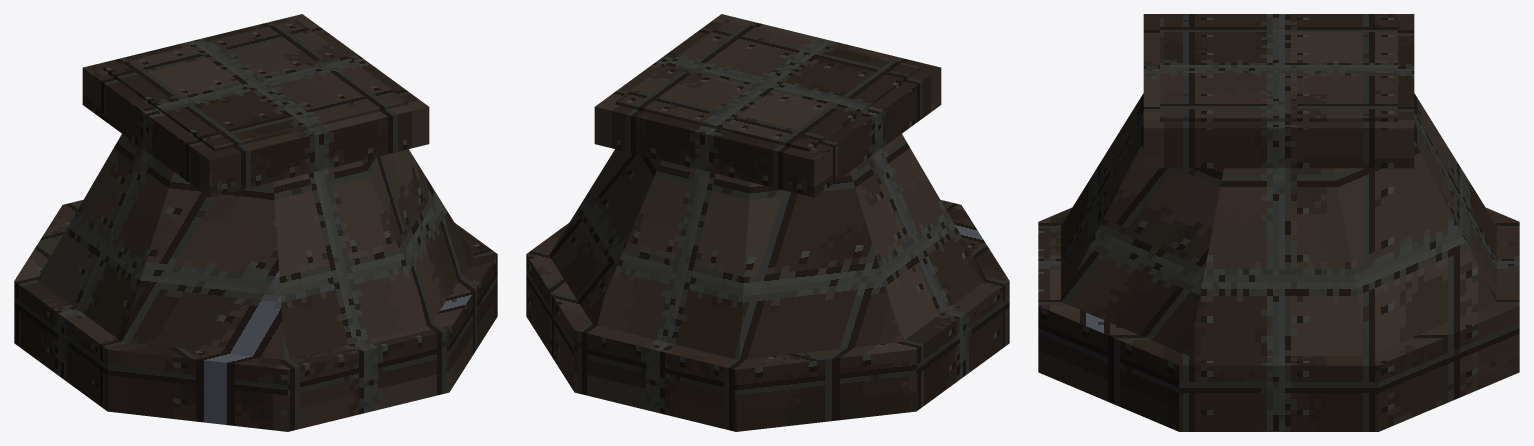
The model's file is enemy_role_drifter.glb.
The picture shows the model from 3 angles, left to right: view 1: azimuth 30°, elevation 25°; view 2: azimuth 150°, elevation 25°; view 3: azimuth 270°, elevation 25°; orthographic projection. The views are drawn at different scales.
Parts seen in each view (by area): view 1: enemy_role_drifter; view 2: enemy_role_drifter; view 3: enemy_role_drifter.
Boxes of the visible parts, <box> form: enemy_role_drifter: <box>14,14,497,431</box>; enemy_role_drifter: <box>526,14,1009,431</box>; enemy_role_drifter: <box>1038,14,1519,431</box>.
Size of the model in its own units: 1.25 by 0.8166 by 1.25.
Materials: 4 (4 with a texture image).
